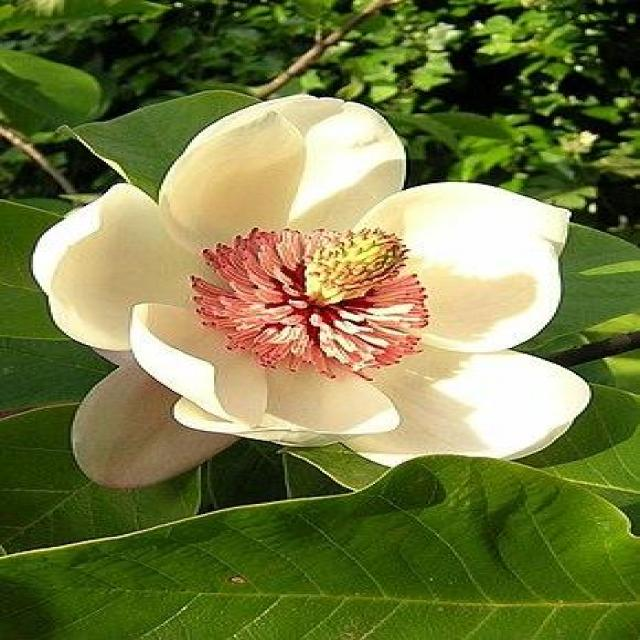organic waste: (24, 93, 596, 475)
